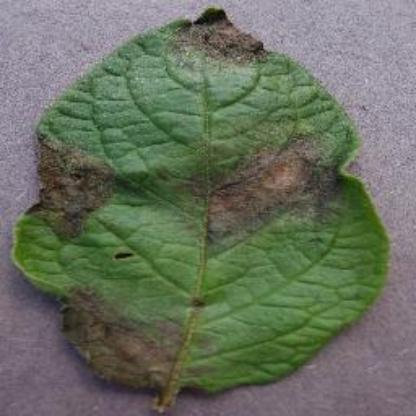Late-Blight: (15, 9, 400, 409)
